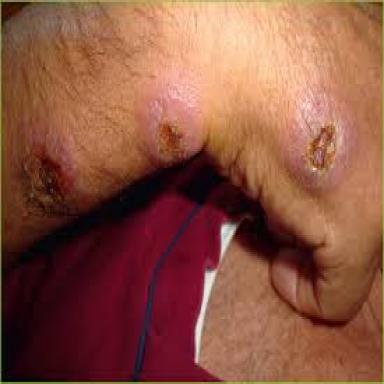Leishmanios: (286, 86, 355, 192), (22, 134, 78, 218), (147, 94, 202, 166)
